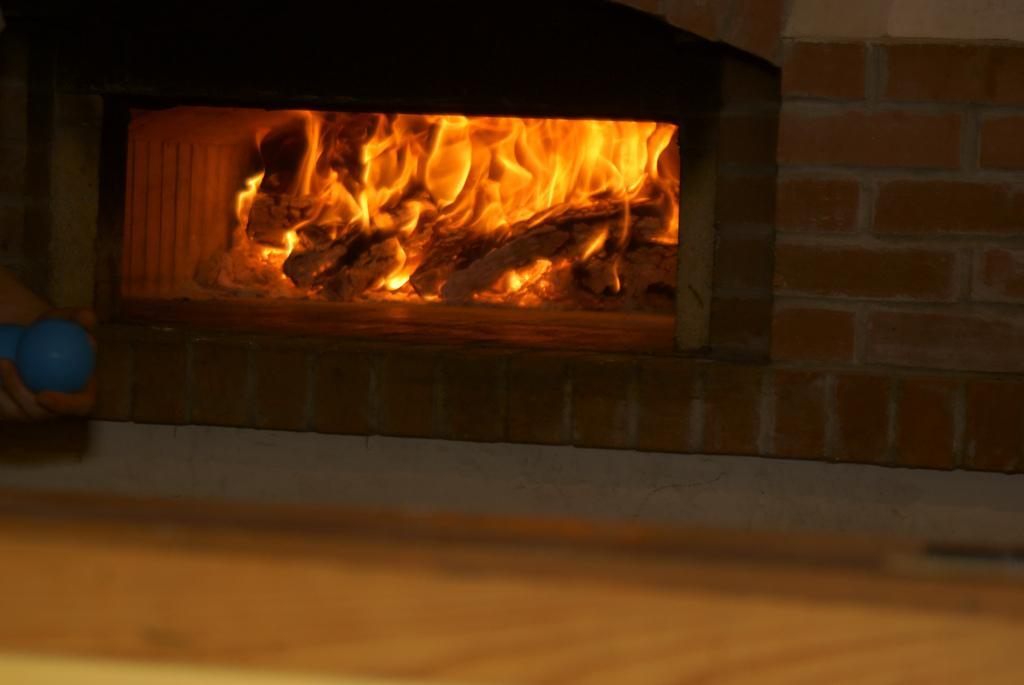fire: (368, 113, 673, 220)
